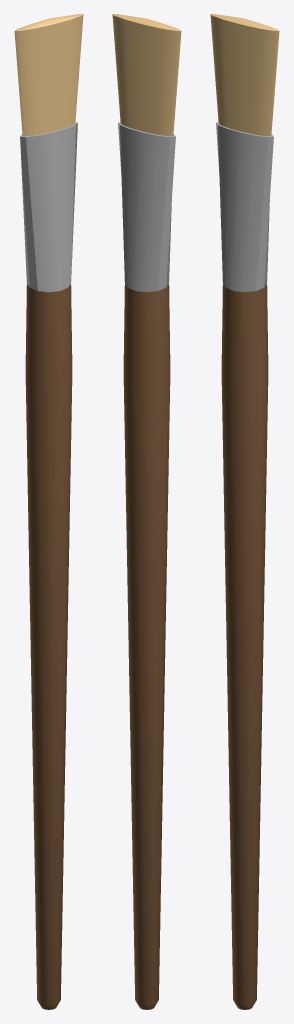
3 views of the same model, side by side, from view 1: azimuth 30°, elevation 25°; view 2: azimuth 150°, elevation 25°; view 3: azimuth 330°, elevation 25° (orthographic).
Parts seen in each view (by area): view 1: PaintersBrush; view 2: PaintersBrush; view 3: PaintersBrush.
Part boxes in pixels (left/top/right/bottom): PaintersBrush: left=14, top=14, right=83, bottom=1009; PaintersBrush: left=112, top=14, right=181, bottom=1009; PaintersBrush: left=210, top=14, right=279, bottom=1009.
Size of what is drawn, in the model's own units: 0.0201 by 0.2752 by 0.0118.
1 material, 1 textured.
